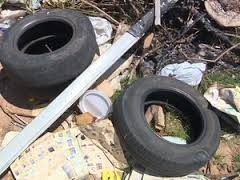tire: (117, 76, 222, 176), (1, 8, 95, 91)
